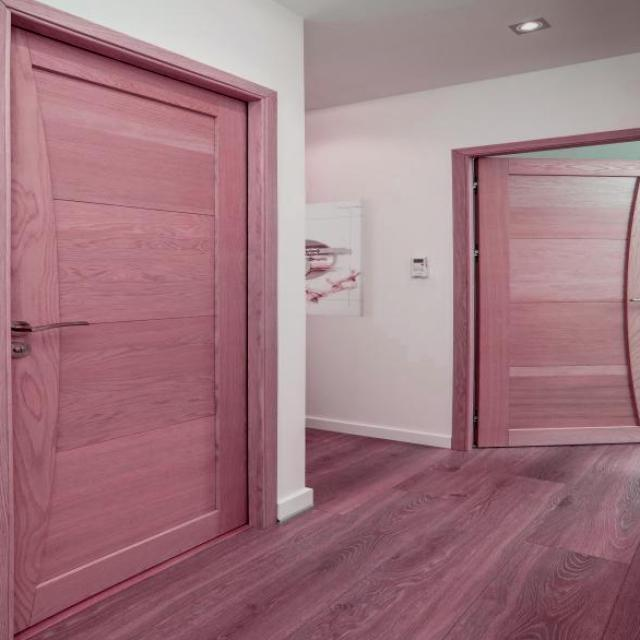door: (1, 2, 266, 636), (473, 154, 639, 448)
